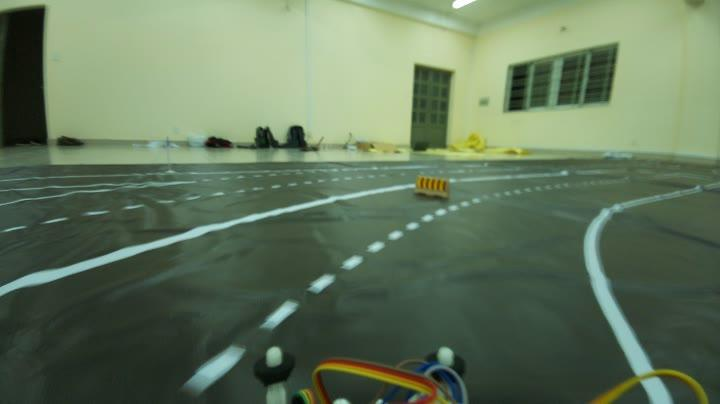roadblock: (413, 170, 452, 198)
